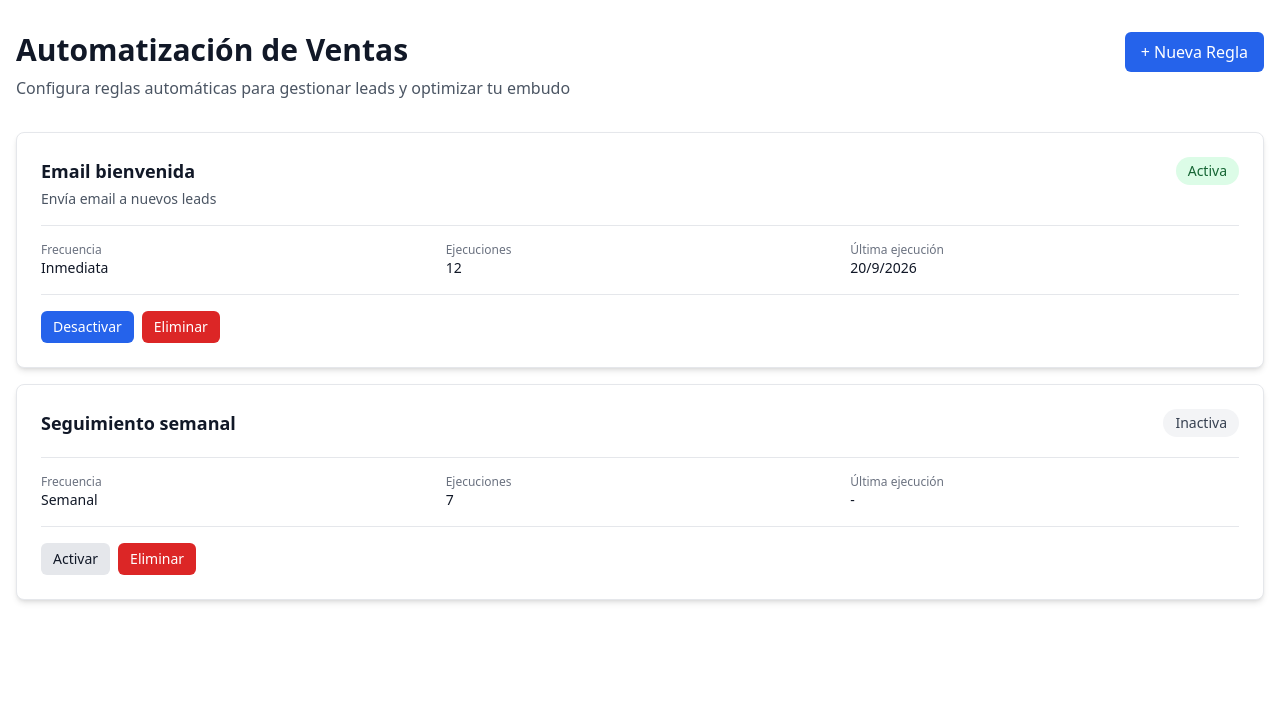
Test: AutomationPage › re-enables the rule buttons after a failed toggle
Expected: the heading "Email bienvenida" is shown, [41,159,195,183]
Click the button "Desactivar": (87, 327) [41,311,134,343]
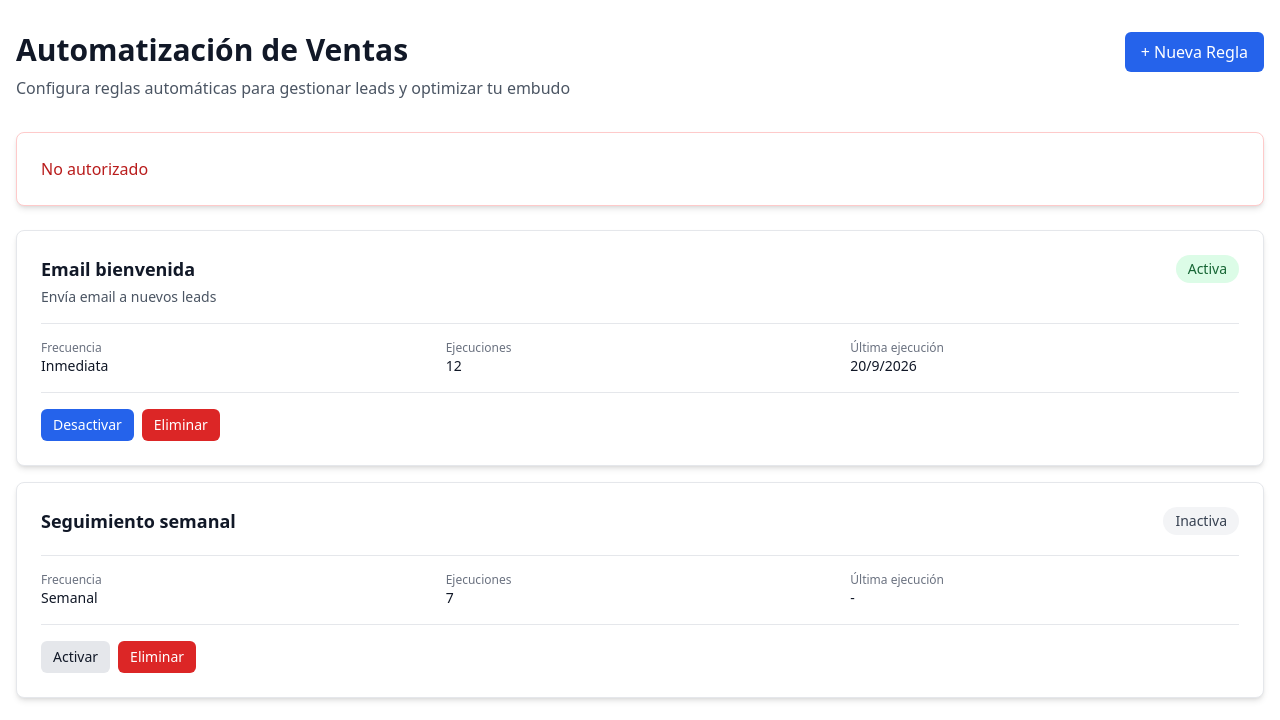
Expected: the button "Desactivar" is enabled, [41,409,134,441]
Now the text "No autorizado" is shown, box [41,158,148,180]
